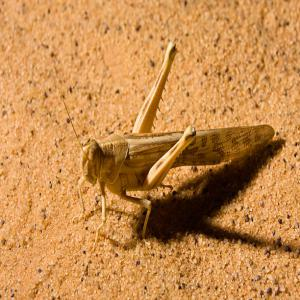locust: (71, 80, 274, 236)
